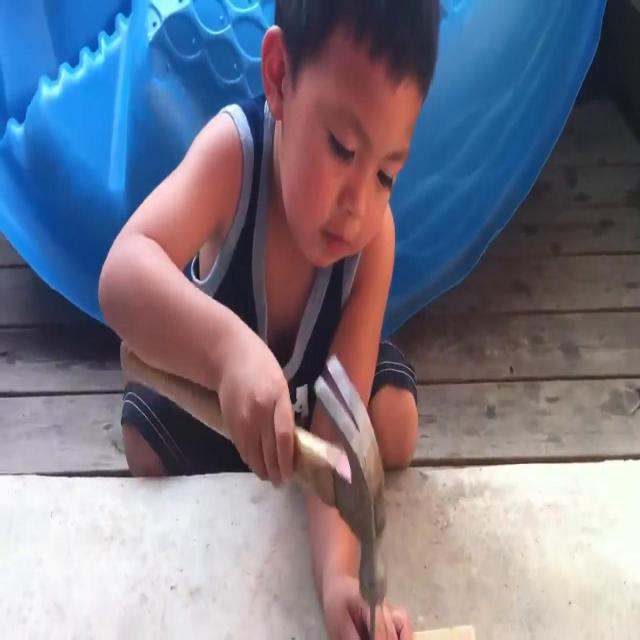hammer: (120, 338, 387, 606)
